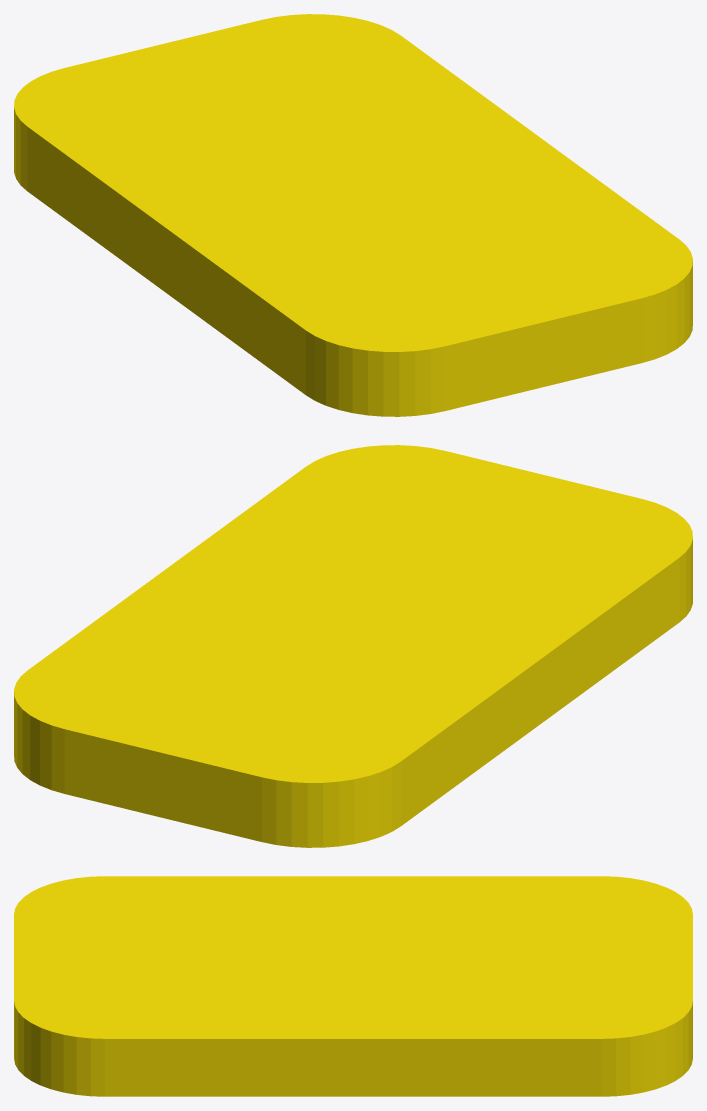
File: models.fbx
3 views of the same model, one above another, from view 1: azimuth 30°, elevation 25°; view 2: azimuth 150°, elevation 25°; view 3: azimuth 270°, elevation 25° (orthographic). The views are drawn at different scales.
Visible parts, largest first — view 1: Cube.000, Cube.001; view 2: Cube.000, Cube.001; view 3: Cube.000, Cube.001.
Boxes of the visible parts, x1,y1,x2,y2 form: Cube.000: [105, 80, 692, 416]; Cube.001: [14, 14, 490, 348]; Cube.000: [105, 445, 692, 758]; Cube.001: [14, 600, 621, 847]; Cube.000: [14, 876, 530, 1096]; Cube.001: [207, 876, 692, 1096].
Size of the model in its own units: 38.3 by 6.36 by 67.56.
